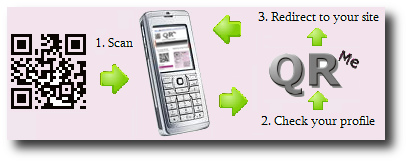QR-CODE: (11, 34, 85, 108)
